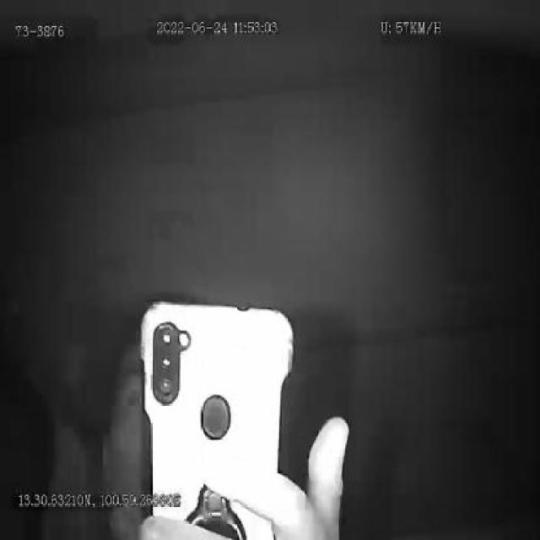phone: (134, 290, 300, 540)
